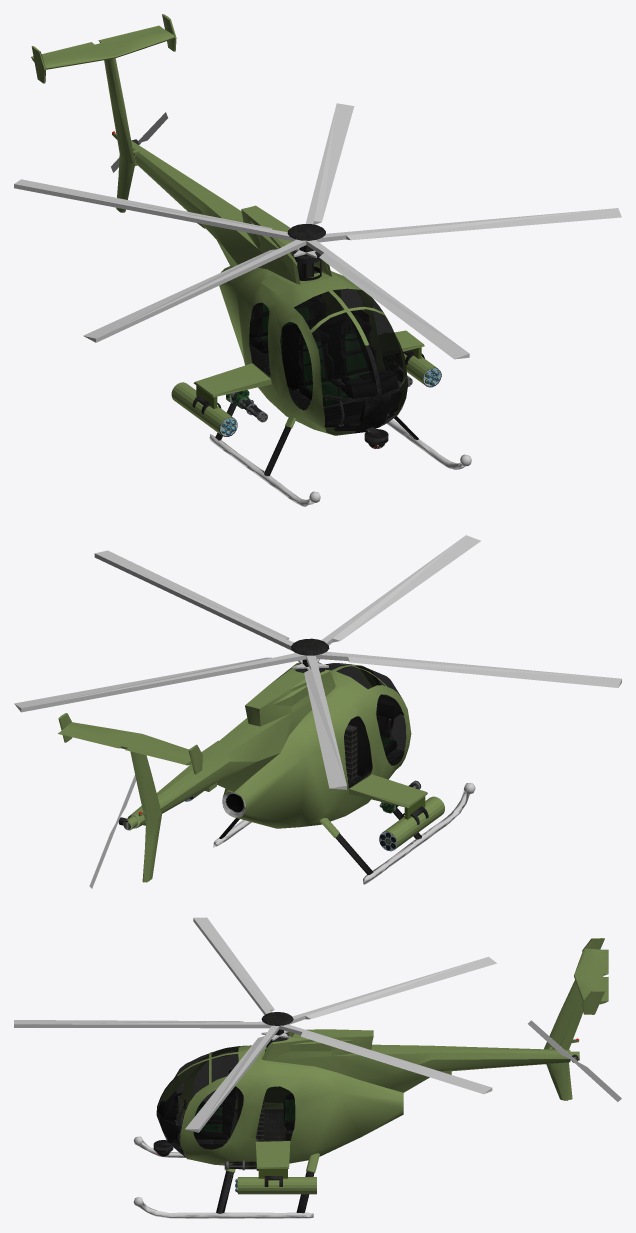
Rendered from littlebird.glb.
3 views of the same model, one above another, from view 1: azimuth 30°, elevation 25°; view 2: azimuth 150°, elevation 25°; view 3: azimuth 270°, elevation 25° (orthographic). The views are drawn at different scales.
Visible parts, largest first — view 1: object 1, object 4, ROTOR, object 2, object 3, object 9, object 10, object 11; view 2: object 1, ROTOR, object 2, object 4, object 3, object 9, object 25; view 3: object 1, object 4, ROTOR, object 2, object 9, object 3, object 11, object 10.
Part boxes in pixels (box(x1,y1,x2,y2)): object 1: box(31, 25, 437, 435); object 4: box(40, 52, 408, 476); ROTOR: box(83, 205, 621, 359); object 2: box(14, 103, 471, 506); object 3: box(131, 139, 418, 475); object 9: box(249, 295, 402, 421); object 10: box(226, 301, 369, 408); object 11: box(249, 344, 402, 410); object 1: box(58, 662, 444, 882); ROTOR: box(94, 535, 621, 708); object 2: box(14, 655, 475, 888); object 4: box(325, 663, 421, 838); object 3: box(118, 659, 421, 874); object 9: box(376, 695, 401, 755); object 25: box(344, 725, 356, 779); object 1: box(157, 938, 608, 1194); object 4: box(157, 939, 591, 1157); ROTOR: box(14, 917, 373, 1132); object 2: box(133, 956, 621, 1218); object 9: box(157, 1070, 294, 1139); object 3: box(153, 1029, 577, 1213); object 11: box(196, 1109, 292, 1149); object 10: box(193, 1100, 294, 1170).
Bounding box in the file's own units: 8.23 × 3.93 × 9.9.
Materials: 34 (18 with a texture image).
